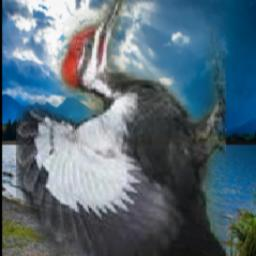Woodpecker: (16, 0, 226, 256)
